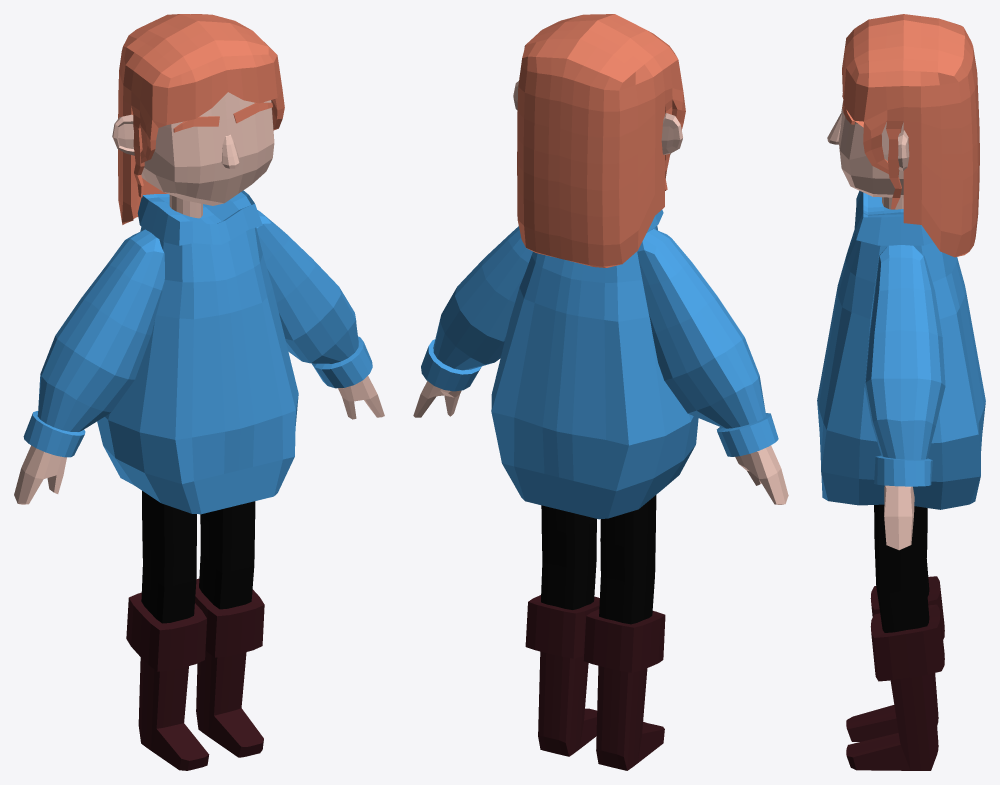
The model's file is protagonista.fbx.
3 renders of one model, left to right at view 1: azimuth 30°, elevation 25°; view 2: azimuth 150°, elevation 25°; view 3: azimuth 270°, elevation 25°, orthographic.
Parts seen in each view (by area): view 1: Irene; view 2: Irene; view 3: Irene.
Boxes of the visible parts, x1=… form: Irene: x1=14, y1=14, x2=384, y2=770; Irene: x1=413, y1=14, x2=788, y2=770; Irene: x1=817, y1=14, x2=985, y2=770.
Bounding box in the file's own units: 229 × 433 × 90.82.
